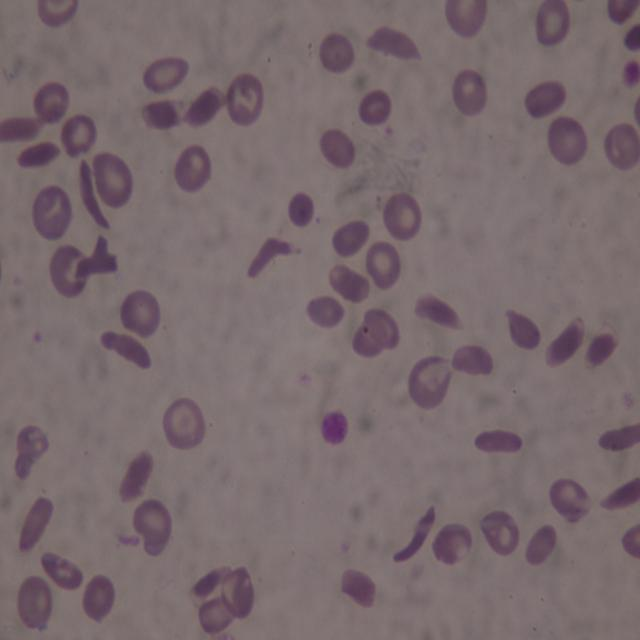Crystal: (98, 330, 152, 371), (183, 81, 231, 126), (17, 495, 53, 552), (546, 315, 584, 368), (412, 294, 464, 330), (117, 450, 152, 503), (38, 552, 84, 591), (138, 98, 190, 128), (596, 420, 640, 453), (192, 566, 232, 601), (472, 429, 522, 456), (16, 141, 62, 169), (1, 116, 42, 141), (91, 235, 108, 270)
Normal: (385, 190, 421, 242), (120, 289, 160, 335), (452, 70, 488, 120), (536, 0, 572, 46), (366, 241, 401, 288)
Others: (33, 182, 72, 245), (50, 240, 90, 298), (91, 151, 131, 208), (224, 70, 264, 126), (548, 116, 589, 164), (143, 54, 190, 95), (548, 478, 592, 520), (18, 576, 52, 628), (481, 510, 521, 554), (172, 144, 210, 190), (133, 500, 173, 543), (220, 568, 255, 616), (524, 80, 565, 120), (433, 522, 473, 562), (329, 263, 370, 302), (604, 125, 640, 169), (318, 127, 355, 169), (331, 220, 370, 259), (363, 308, 402, 347), (503, 310, 541, 350), (32, 81, 69, 122), (200, 594, 238, 633), (84, 574, 115, 621), (341, 567, 376, 608), (61, 115, 95, 157), (445, 1, 488, 34), (306, 294, 345, 330), (320, 33, 355, 73), (15, 425, 51, 463), (525, 524, 558, 565), (451, 346, 493, 377), (585, 330, 616, 368), (359, 90, 390, 126), (353, 322, 383, 359), (288, 191, 313, 228), (321, 412, 346, 444), (620, 523, 640, 561), (607, 0, 640, 22), (14, 451, 36, 478), (143, 532, 167, 555), (624, 22, 640, 52), (623, 59, 638, 88), (632, 95, 640, 126)
Sickle: (390, 503, 435, 564), (77, 158, 113, 233), (405, 353, 449, 408), (363, 24, 425, 62), (246, 235, 292, 280), (596, 472, 638, 512), (71, 254, 118, 282)
Target: (160, 398, 205, 450), (34, 0, 76, 26)
